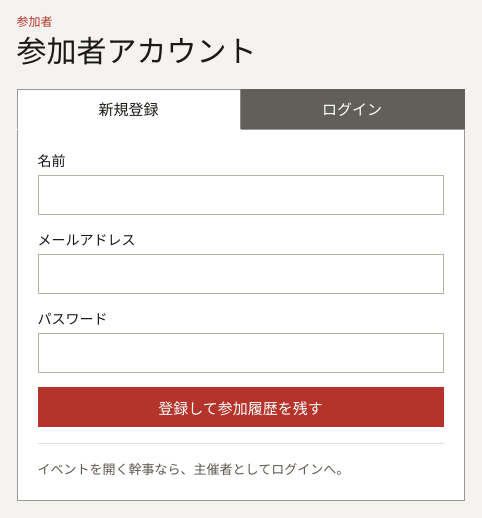
Test: 登録とログインの切り替え › タブで切り替えても、題と role の札は変えずにカードの中身だけを入れ替える
Check: the heading "参加者アカウント" is shown, box [16,27,256,71]
Check: the text "参加者" is shown, box [16,12,52,29]
Click the radio button labelled "ログイン".
click(352, 109)  # box [240,89,464,129]
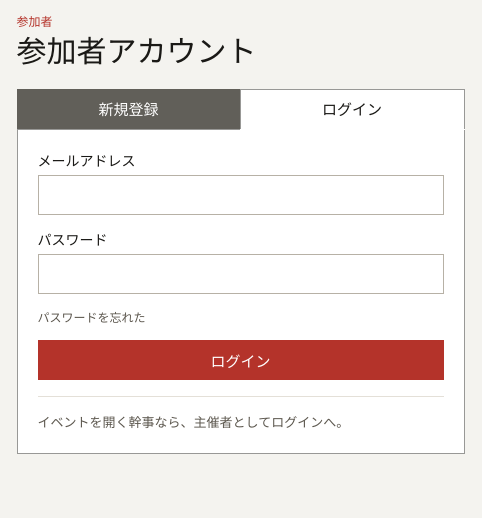
Check: the heading "参加者アカウント" is shown, box [16,27,256,71]
Check: the label labelled "名前" is gone
Check: the button "ログイン" is shown, box [38,340,444,380]
